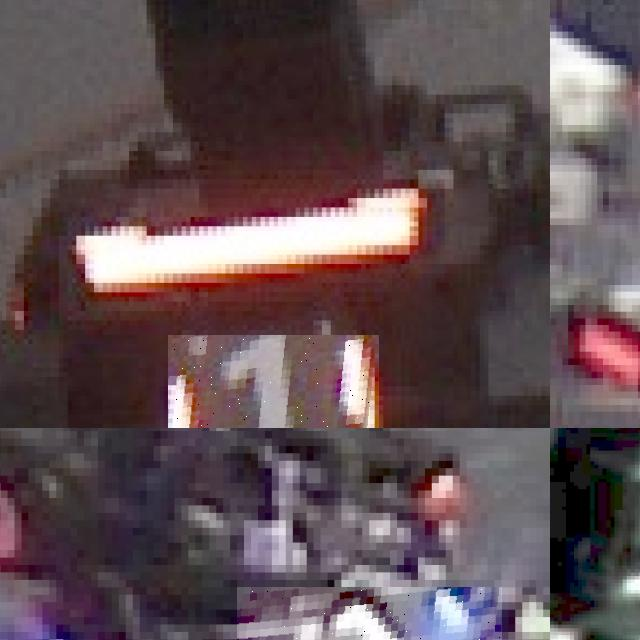B1: (237, 587, 501, 640)
R1: (168, 334, 378, 428)
